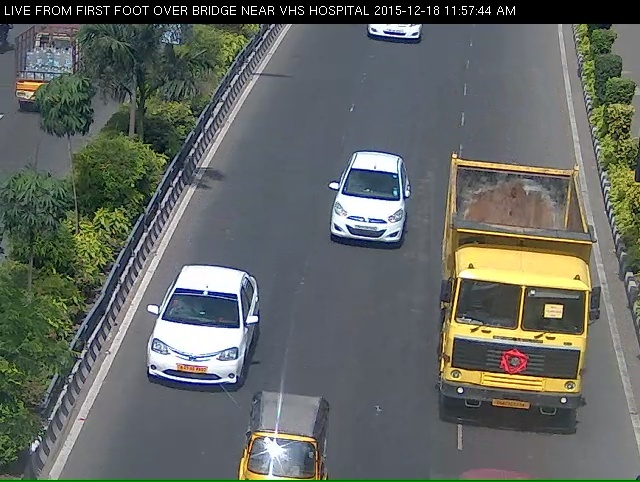Auto: (230, 413, 326, 478)
Bus: (439, 155, 594, 452)
Car: (138, 282, 240, 410), (330, 154, 404, 282)
